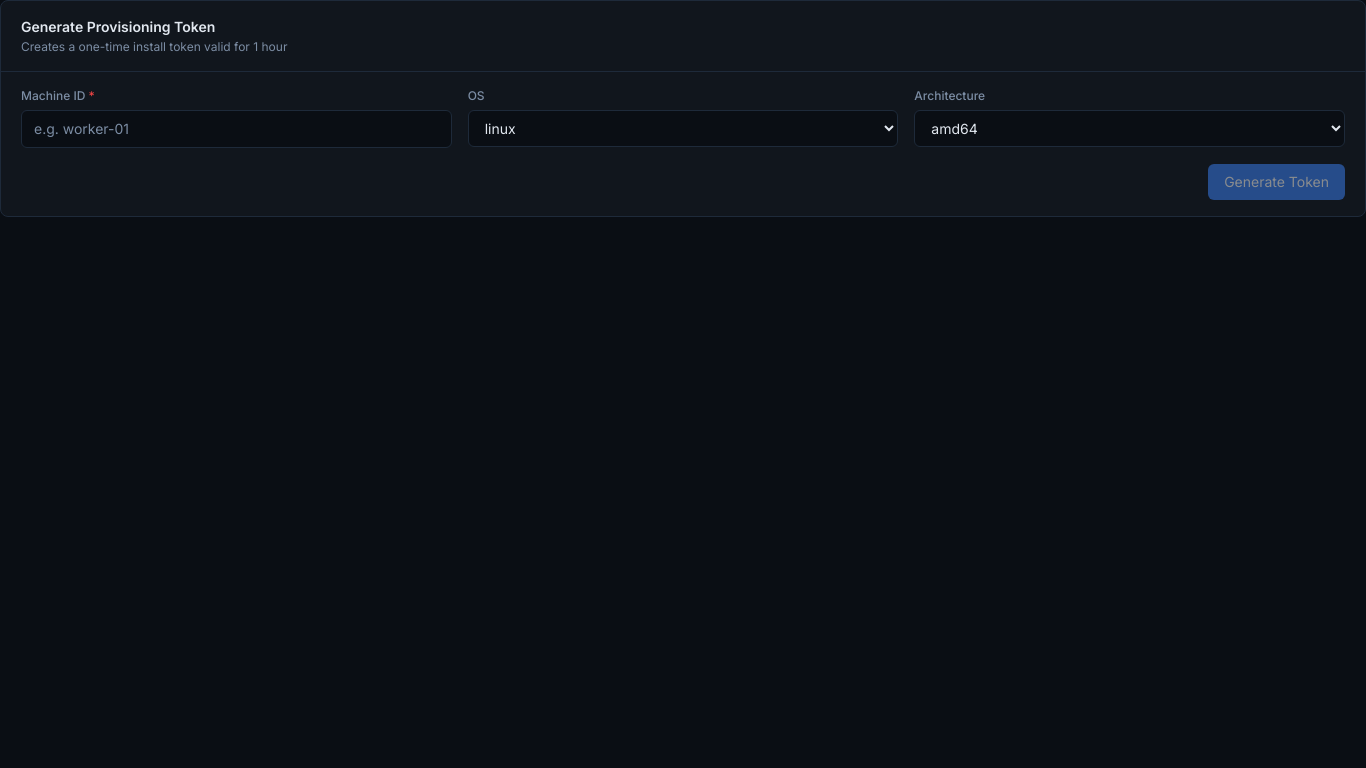
Test: TokenGenerator › shows Advanced section with curl command when toggled
Type "w2" into the field with placeholder "e.g. worker-01" at (236, 129), box [21,110,452,148]
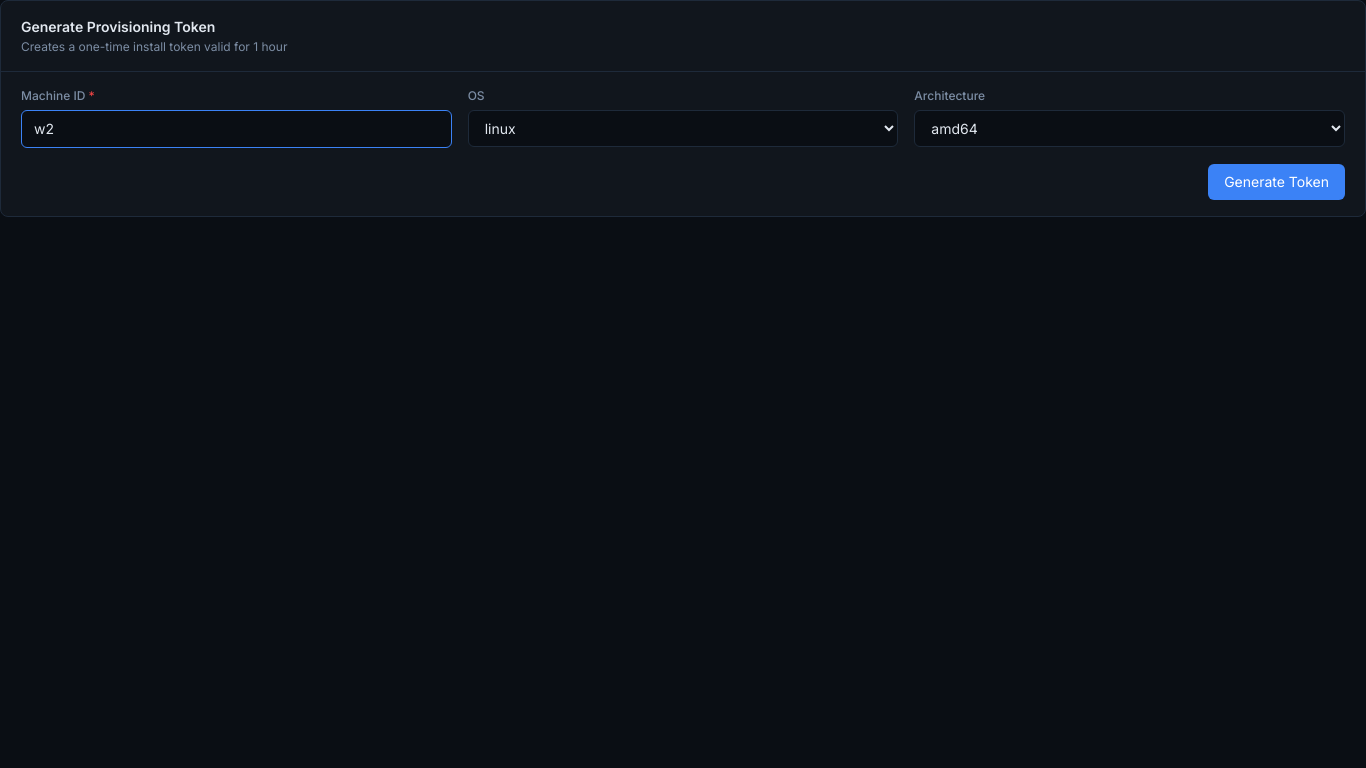
Click the button "Generate Token" at (1277, 182), box [1208,164,1345,200]
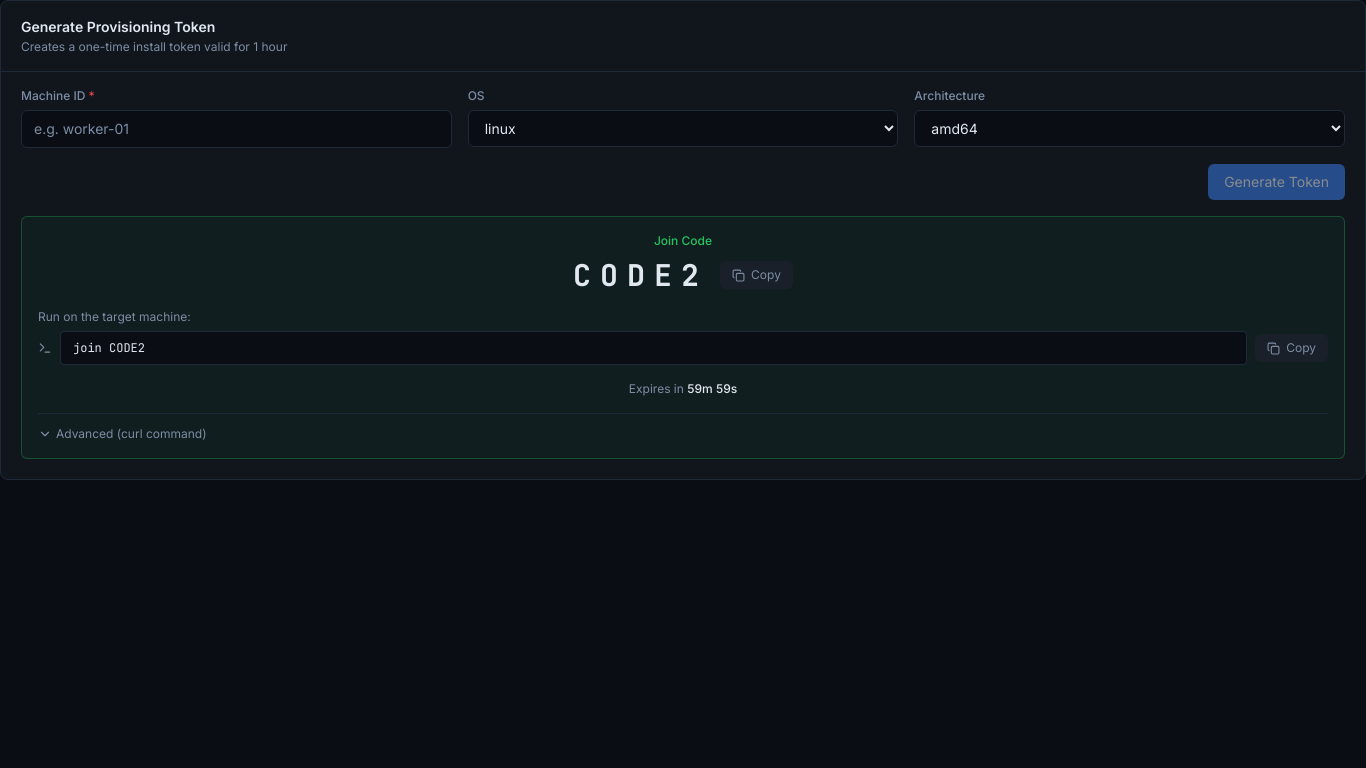
Expected: the text "For scripted provisioning:" is not shown
// Click to expand
Click the button "Advanced (curl command)" at (122, 434), box [38,426,207,442]
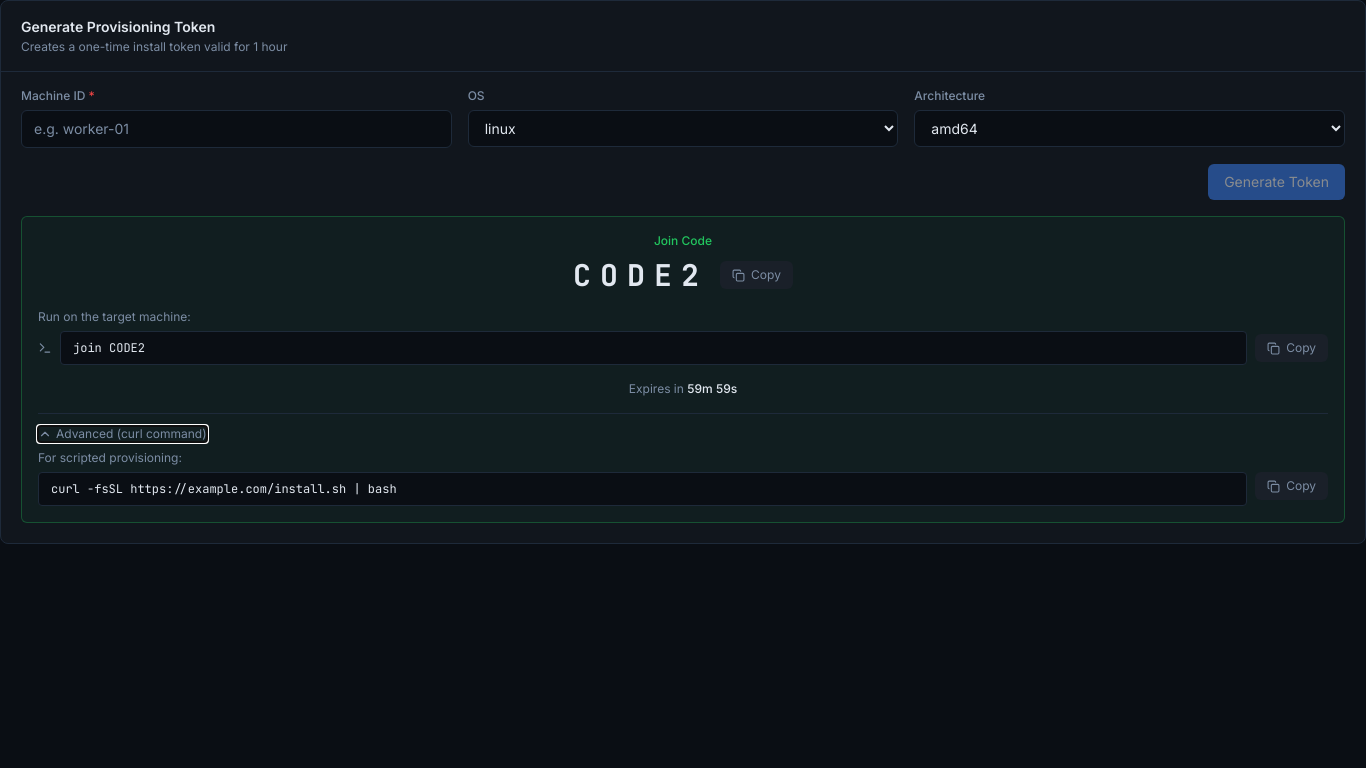
Result: the text "For scripted provisioning:" is shown at [38,450,182,465]
Result: the text "curl -fsSL https://example.com/install.sh | bash" is shown at [38,472,1247,506]
